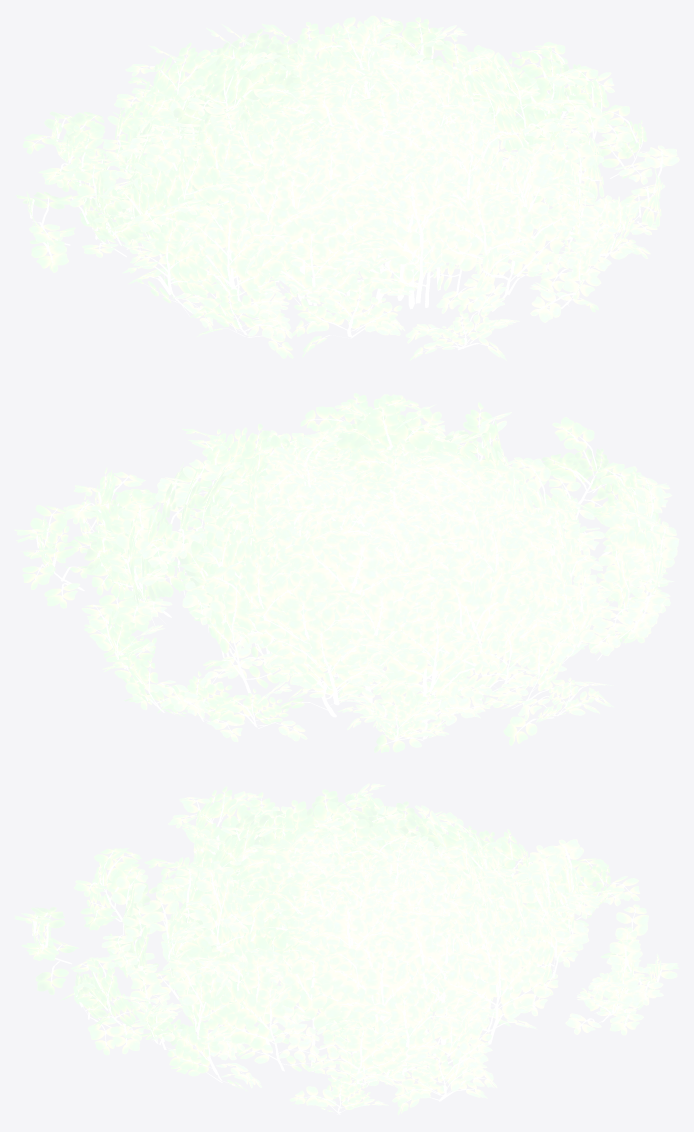
3 renders of one model, top to bottom at view 1: azimuth 30°, elevation 25°; view 2: azimuth 150°, elevation 25°; view 3: azimuth 270°, elevation 25°, orthographic. The views are drawn at different scales.
Parts seen in each view (by area): view 1: SM_BM_Medium_Bush_01_B_LOD0; view 2: SM_BM_Medium_Bush_01_B_LOD0; view 3: SM_BM_Medium_Bush_01_B_LOD0.
Boxes of the visible parts, x1=… form: SM_BM_Medium_Bush_01_B_LOD0: x1=16, y1=15, x2=679, y2=360; SM_BM_Medium_Bush_01_B_LOD0: x1=14, y1=393, x2=679, y2=752; SM_BM_Medium_Bush_01_B_LOD0: x1=14, y1=783, x2=679, y2=1115.
Size of the model in its own units: 3.39 by 1.26 by 3.62.
Materials: 1 (1 with a texture image).
